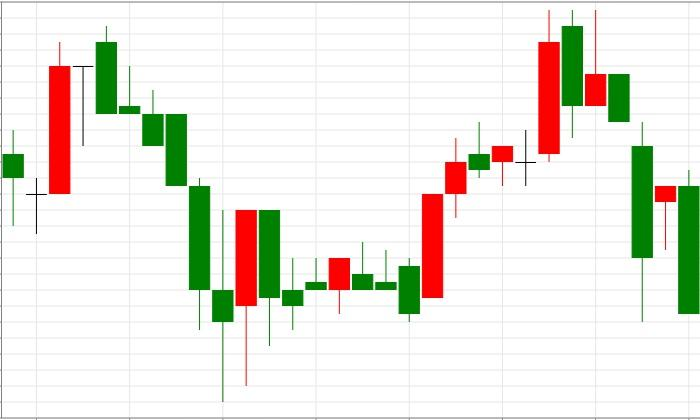shooting_star_fall: (398, 10, 607, 323)
